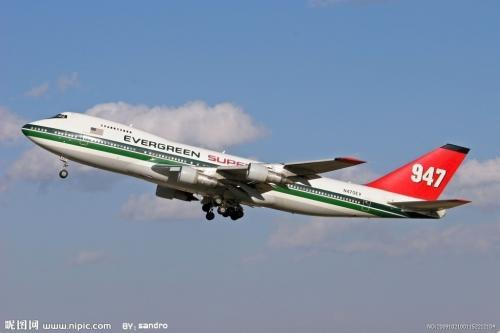airplane: (19, 109, 476, 234)
